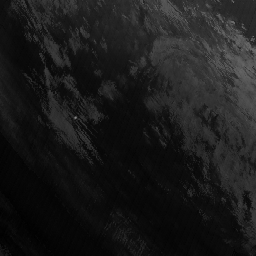Target: (72, 116, 77, 120)
